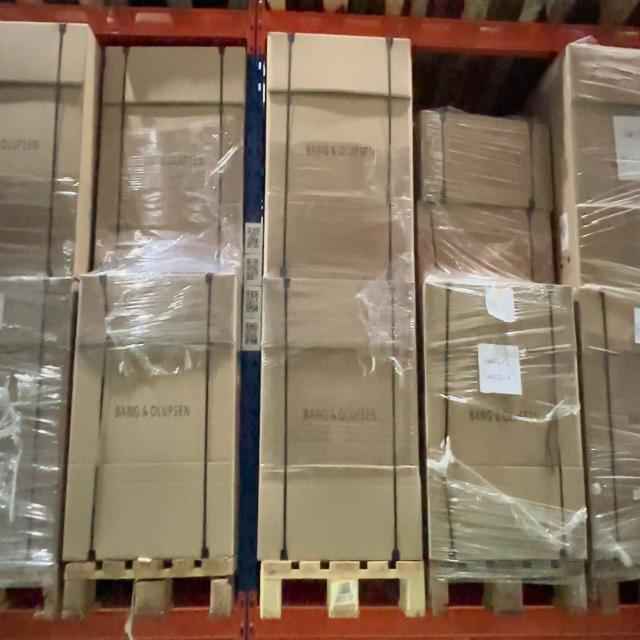box: (64, 275, 235, 557), (259, 285, 421, 556), (426, 283, 585, 558), (266, 35, 413, 281), (92, 51, 243, 270), (424, 114, 552, 213), (420, 209, 557, 281)
